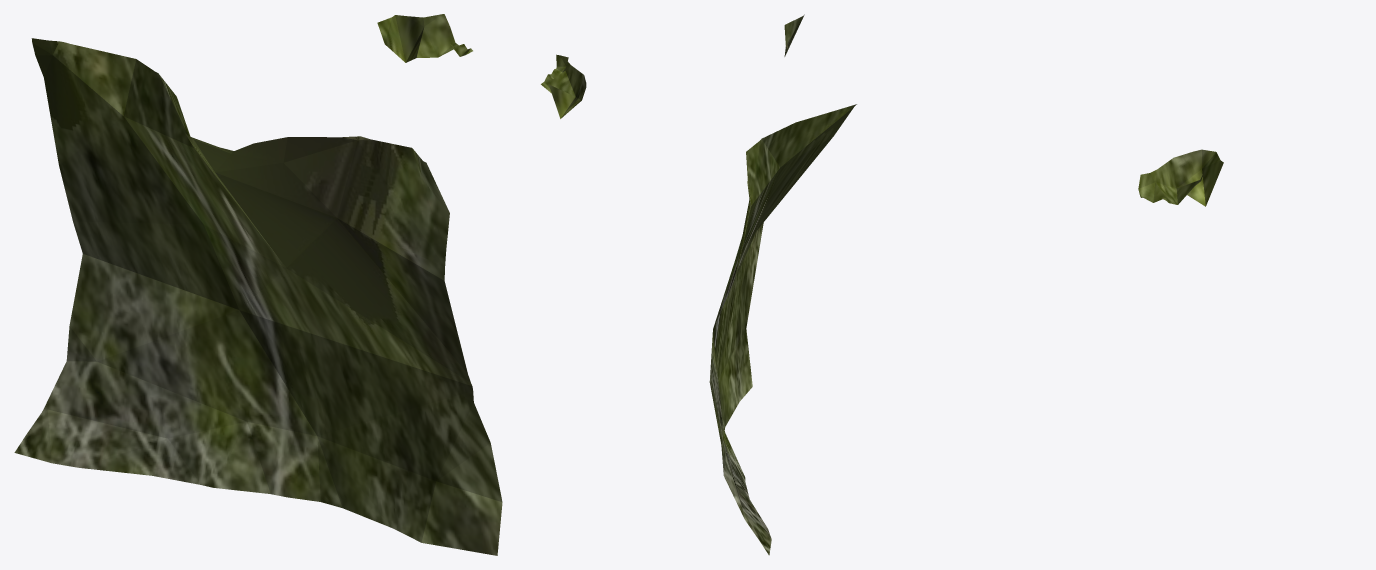
3 renders of one model, left to right at view 1: azimuth 30°, elevation 25°; view 2: azimuth 150°, elevation 25°; view 3: azimuth 270°, elevation 25°, orthographic. The views are drawn at different scales.
Bounding box in the file's own units: 2.64 × 2.95 × 2.95.
Materials: 3 (3 with a texture image).
